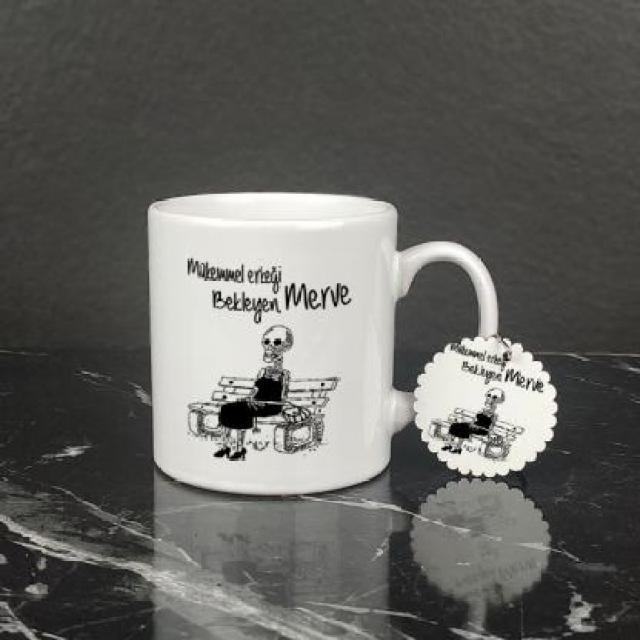taza: (144, 191, 503, 500)
